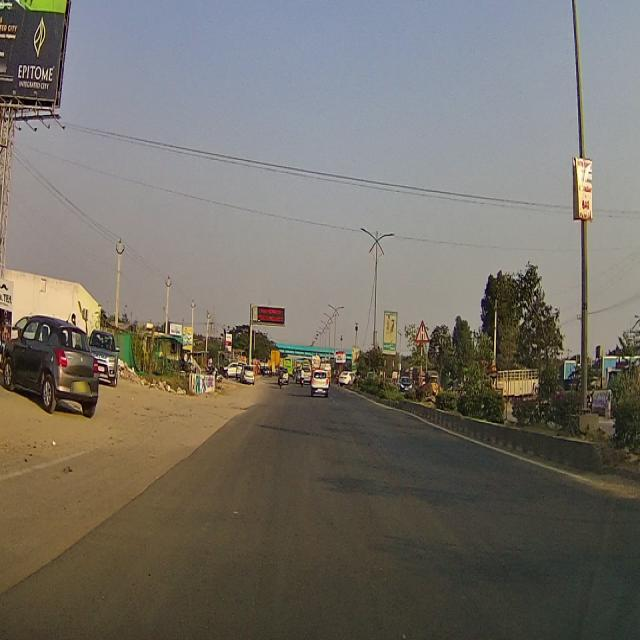gap-in-median: (415, 319, 430, 343)
